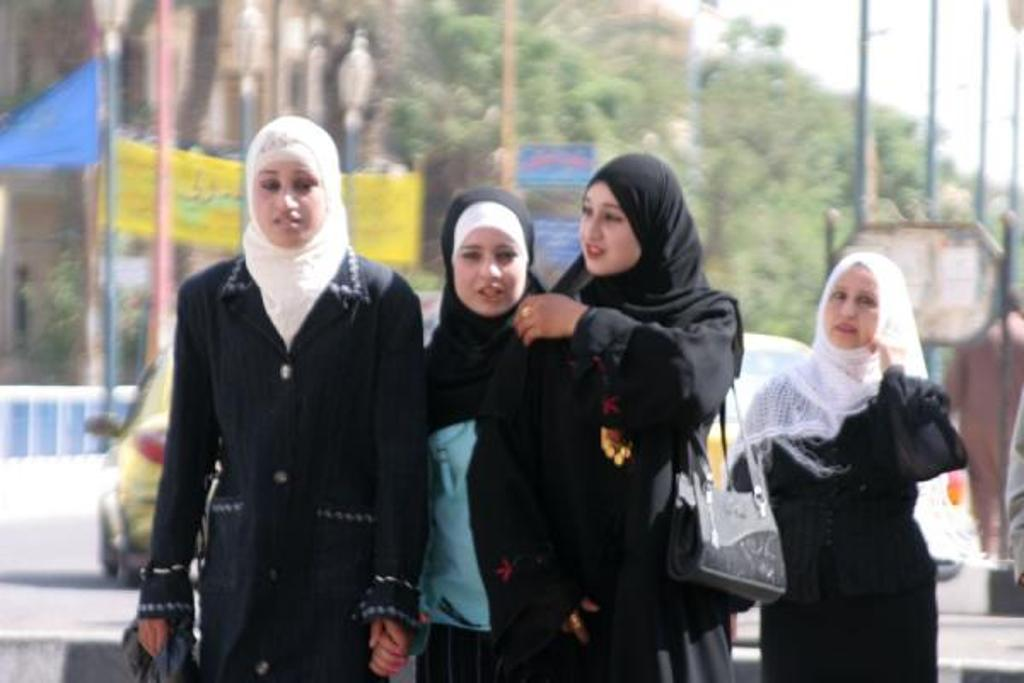face: (254, 146, 330, 244), (454, 218, 522, 318), (582, 180, 650, 276), (824, 264, 882, 352)
